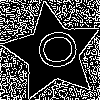O: (27, 27, 79, 73)
